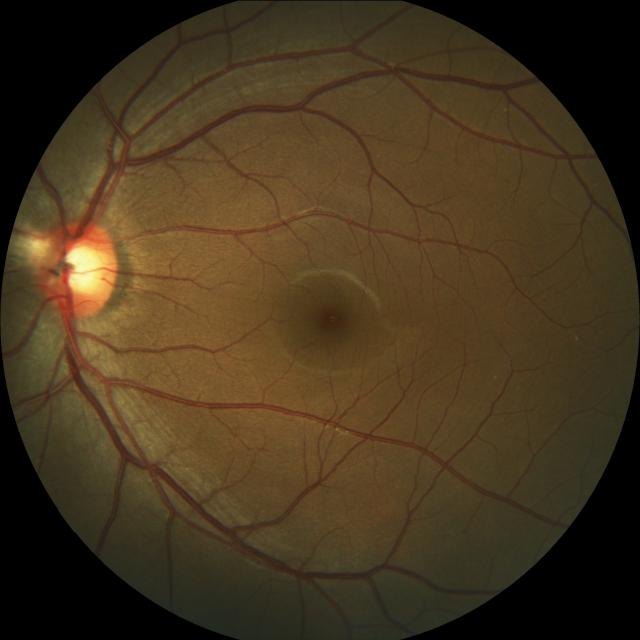OC: (58, 239, 106, 298)
OD: (37, 218, 121, 318)
